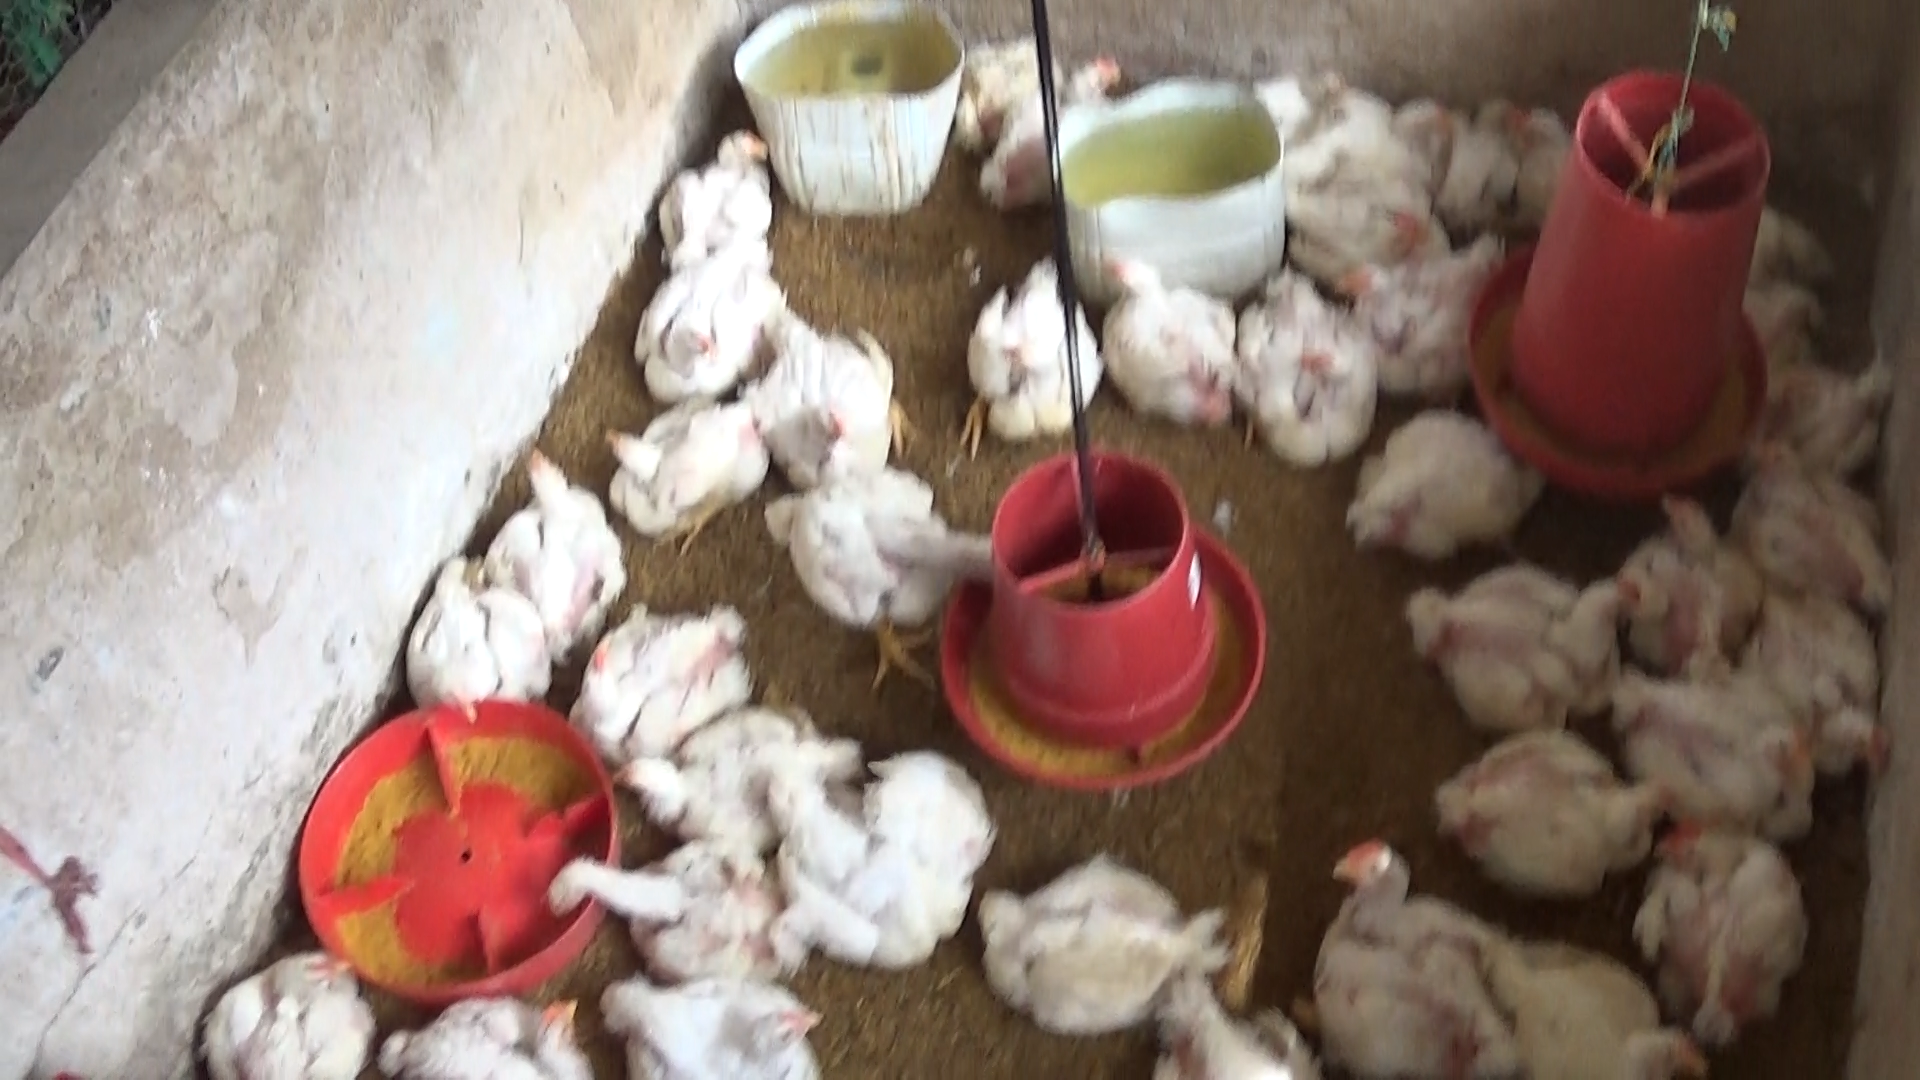Pollos: (745, 447, 1015, 687), (965, 852, 1234, 1047), (770, 727, 994, 959), (1307, 829, 1505, 1077), (1386, 560, 1654, 732), (1604, 662, 1818, 848), (1422, 719, 1654, 882), (1205, 257, 1377, 477), (1332, 384, 1553, 554), (611, 705, 833, 872), (1477, 923, 1712, 1080), (1646, 829, 1812, 1048), (535, 839, 779, 988), (574, 949, 837, 1080), (949, 251, 1102, 462), (625, 232, 800, 413), (1601, 487, 1766, 669), (603, 375, 766, 556), (571, 599, 761, 753), (491, 434, 625, 649), (760, 311, 924, 487), (397, 541, 542, 735), (1087, 247, 1240, 429), (189, 938, 376, 1080), (1766, 585, 1896, 778), (381, 967, 593, 1080), (977, 58, 1134, 211), (1348, 225, 1513, 367), (1753, 469, 1900, 617), (1302, 157, 1458, 286), (634, 128, 779, 258), (1767, 351, 1898, 471), (1288, 95, 1448, 181), (944, 34, 1052, 160), (1422, 102, 1540, 210)
